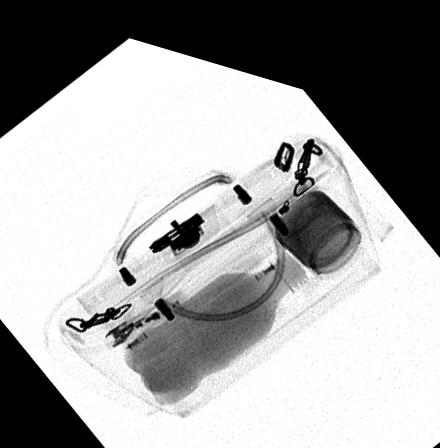Lighter: (104, 294, 164, 342)
